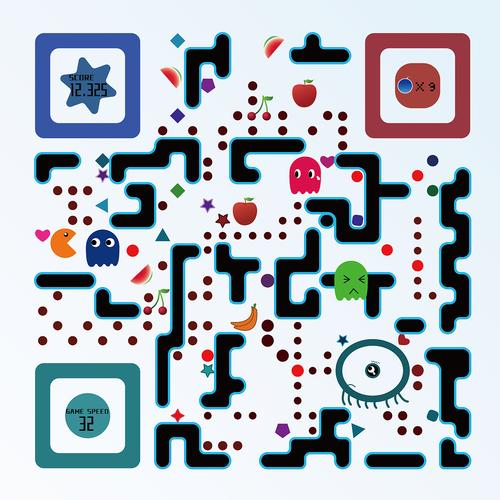QRCode: (18, 15, 500, 500)
